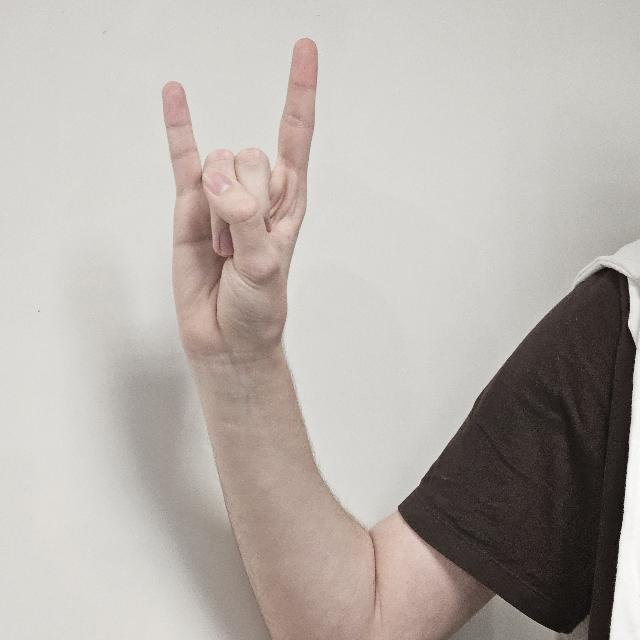L: (160, 34, 318, 378)
